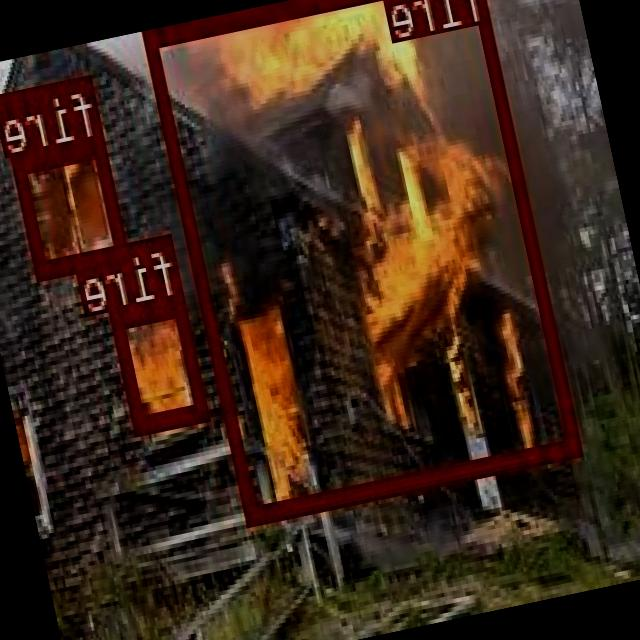fire: (146, 0, 582, 522), (12, 133, 130, 274), (112, 294, 210, 432)
